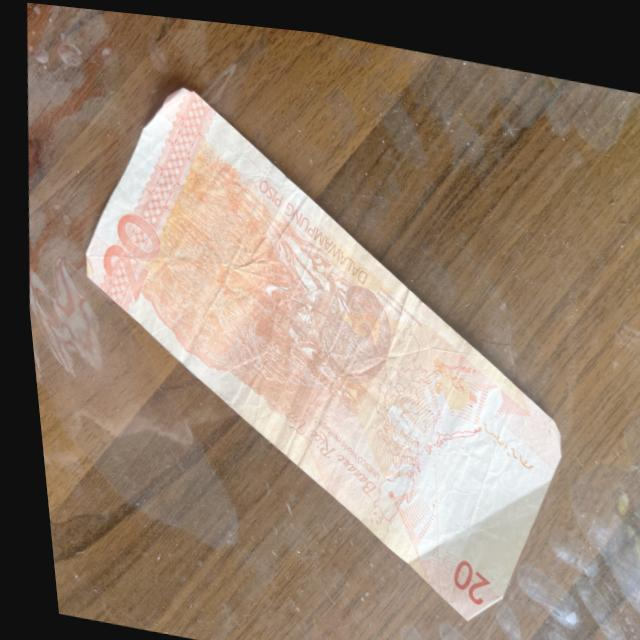20_civet: (270, 256, 396, 386)
20_civet_watermark: (421, 354, 467, 407)
